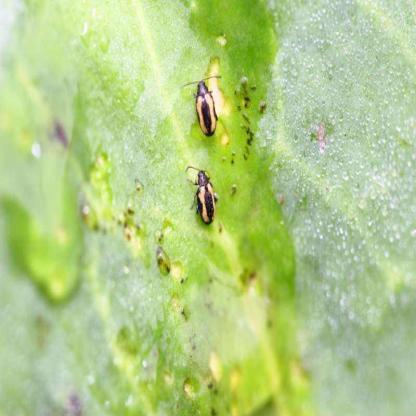beetle: (189, 74, 226, 137), (187, 166, 217, 223)
